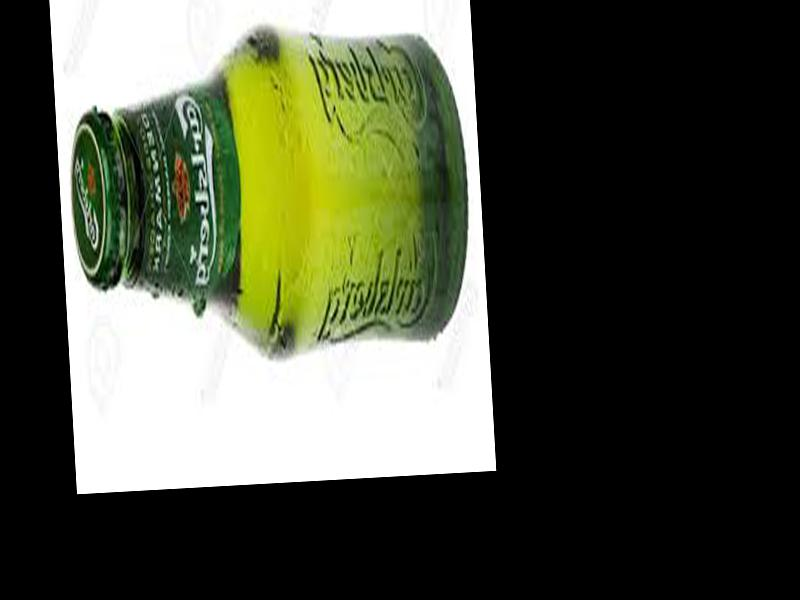Beer: (61, 13, 478, 367)
